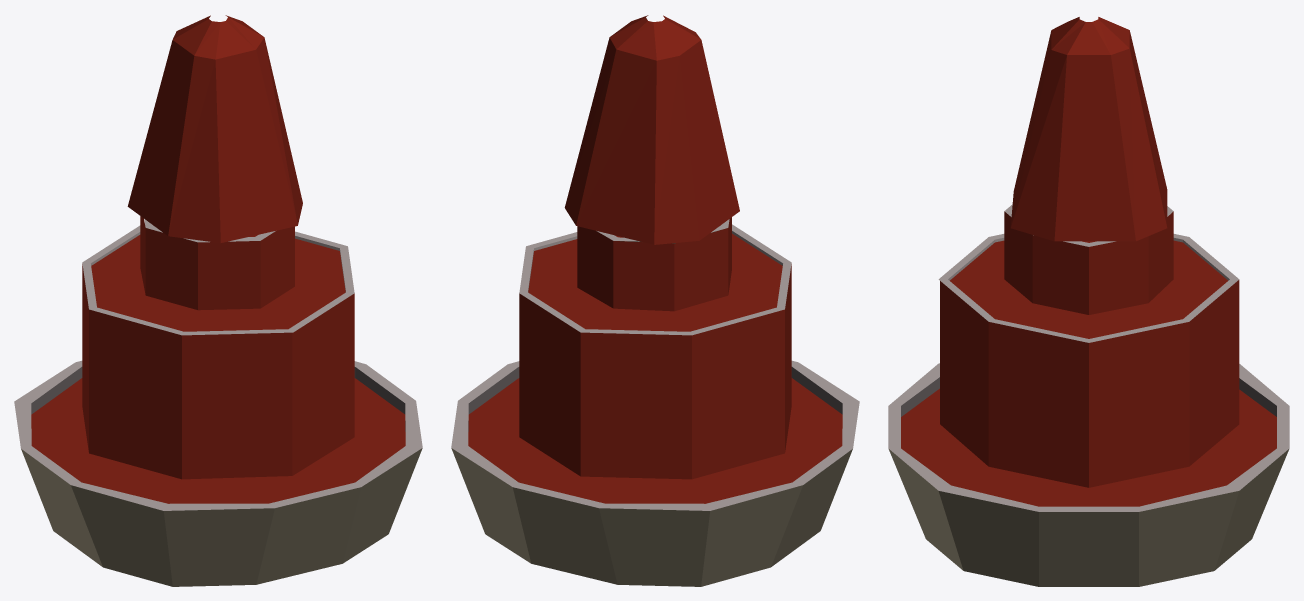
3 renders of one model, left to right at view 1: azimuth 30°, elevation 25°; view 2: azimuth 150°, elevation 25°; view 3: azimuth 270°, elevation 25°, orthographic.
Size of the model in its own units: 256 by 352 by 256.
1 material, 1 textured.
